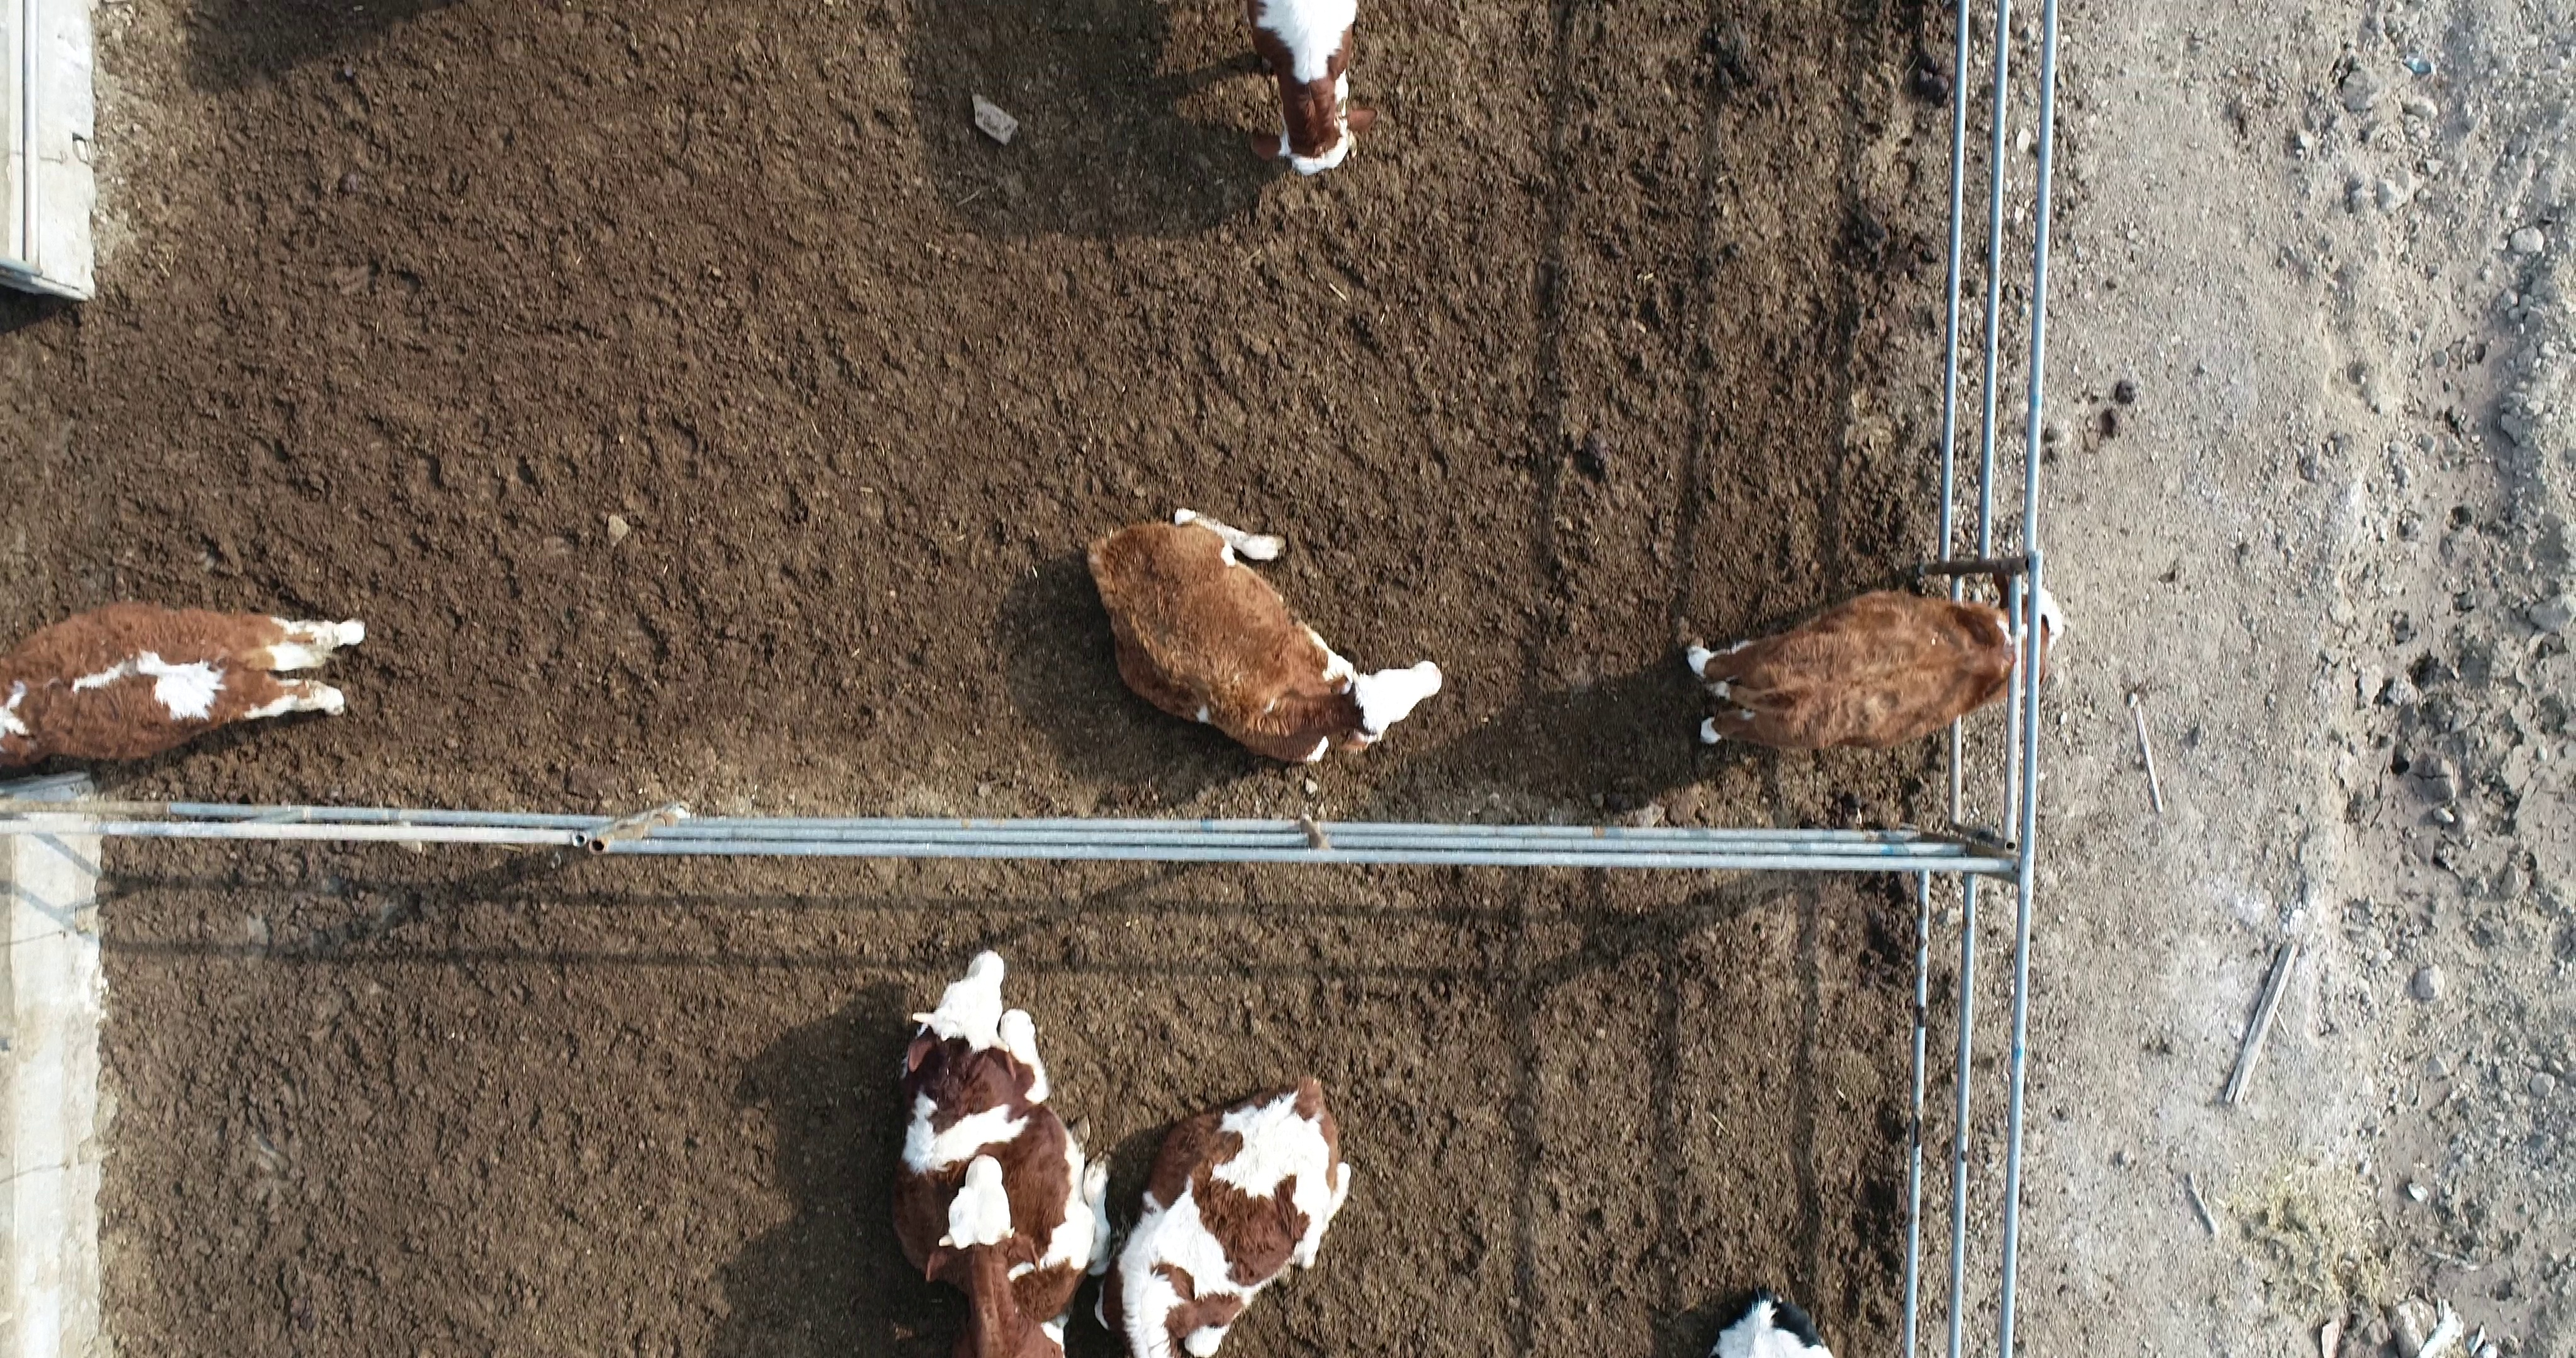cattle: (1080, 503, 1450, 768), (1089, 1070, 1356, 1358), (1678, 571, 2072, 755)
